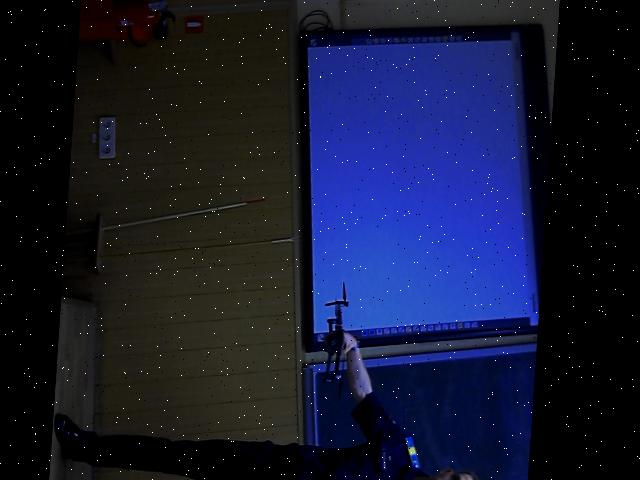drone: (305, 280, 367, 402)
